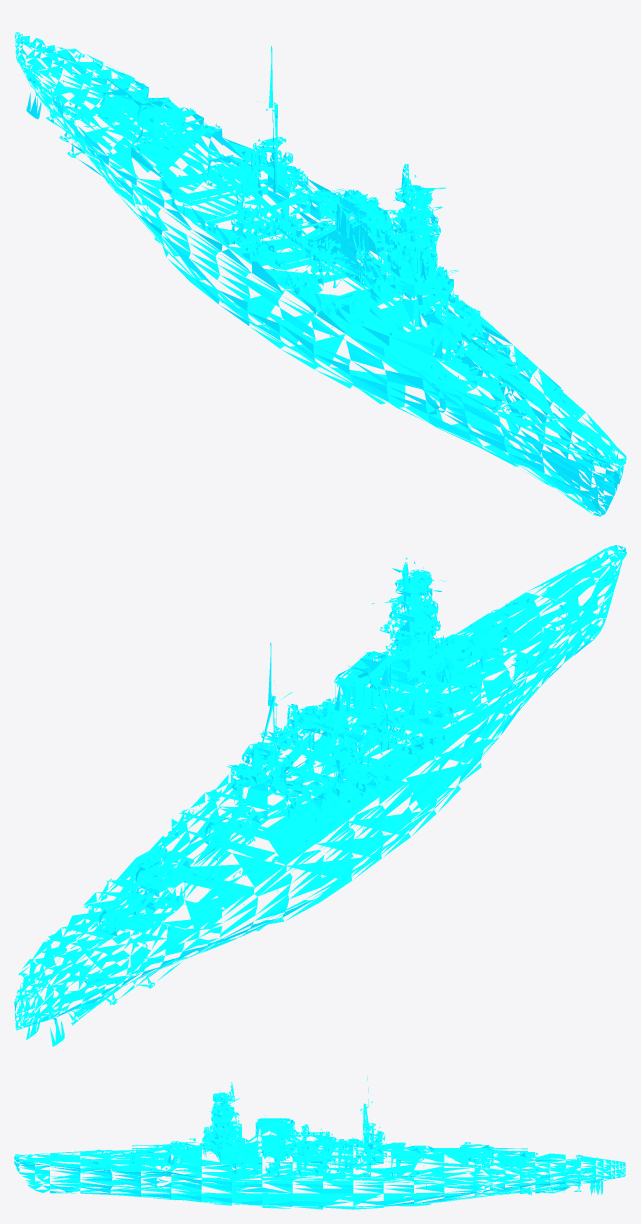
The model's file is Bungo.glb.
3 renders of one model, top to bottom at view 1: azimuth 30°, elevation 25°; view 2: azimuth 150°, elevation 25°; view 3: azimuth 270°, elevation 25°, orthographic. The views are drawn at different scales.
Size of the model in its own units: 2.62 by 3.92 by 18.48.
